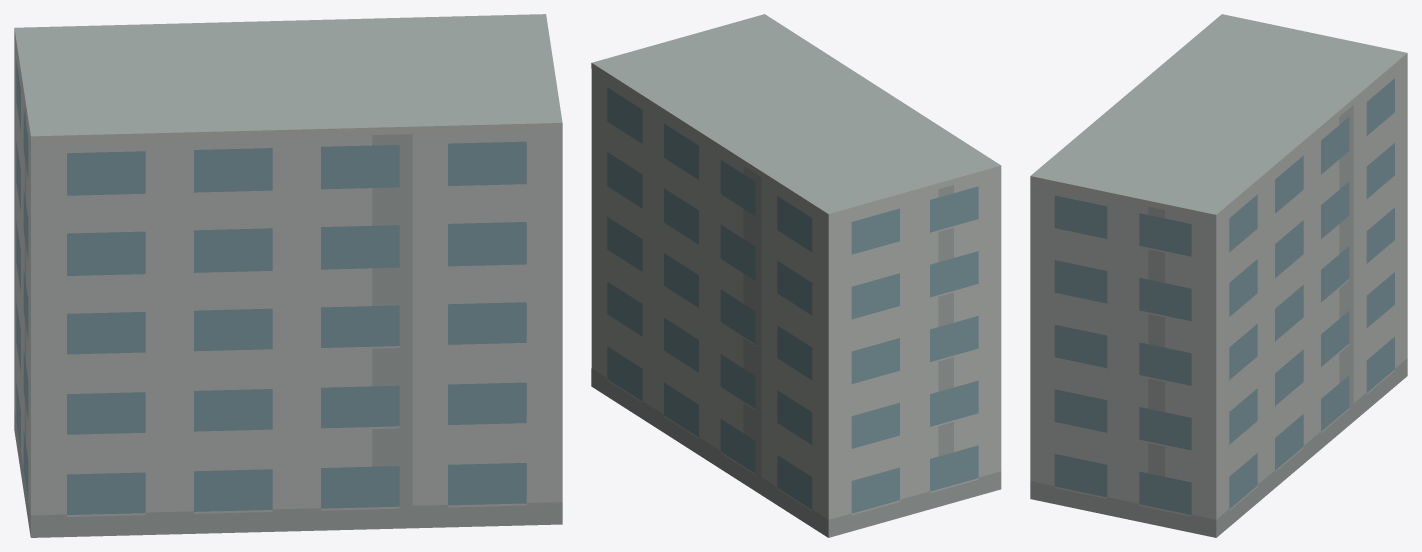
The model's file is survey-upis-32884387.glb.
3 views of the same model, side by side, from view 1: azimuth 30°, elevation 25°; view 2: azimuth 150°, elevation 25°; view 3: azimuth 270°, elevation 25° (orthographic). The views are drawn at different scales.
Parts seen in each view (by area): view 1: survey-upis-32884387.tmp; view 2: survey-upis-32884387.tmp; view 3: survey-upis-32884387.tmp.
Boxes of the visible parts, x1,y1,x2,y2 form: survey-upis-32884387.tmp: (14,14,562,537); survey-upis-32884387.tmp: (591,14,1001,537); survey-upis-32884387.tmp: (1030,14,1407,537).
Bounding box in the file's own units: 17.48 × 13.1 × 13.88.
